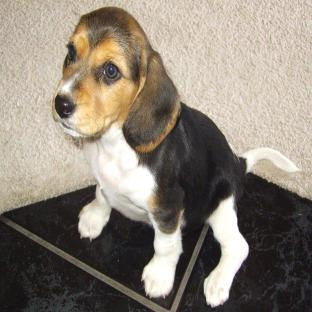Animal: (53, 7, 300, 307)
